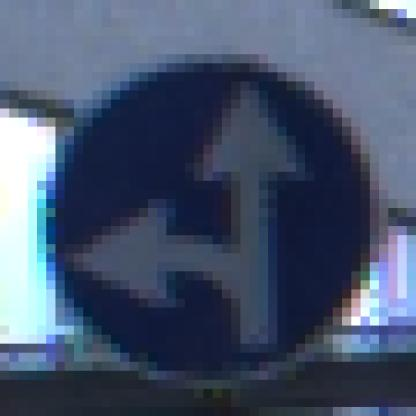Straight or Left: (47, 46, 371, 372)
